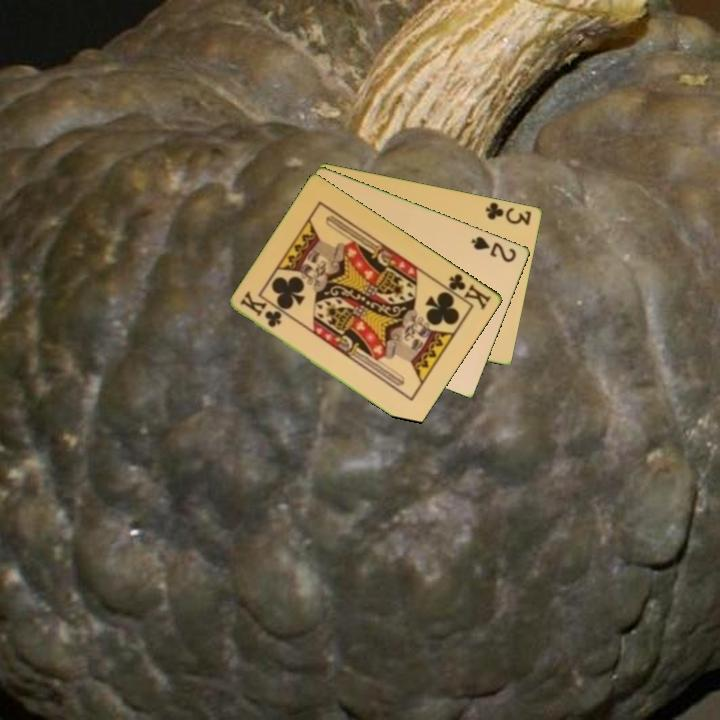2s: (468, 232, 520, 265)
3c: (482, 198, 535, 228)
Kc: (439, 270, 494, 313), (237, 290, 285, 330)
